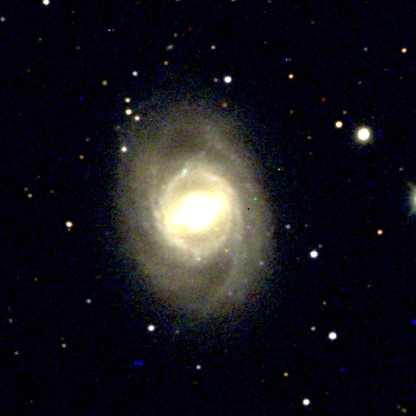Messier 95: (103, 76, 296, 343)
